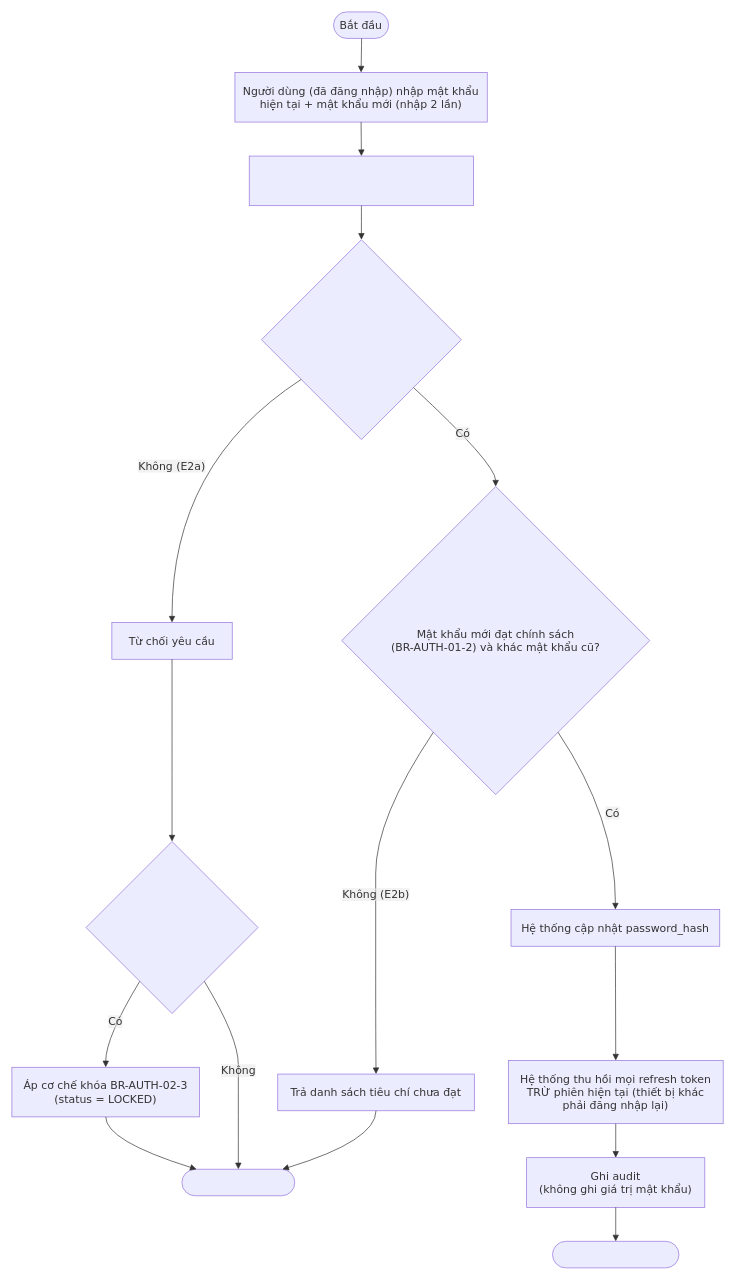
The diagram is 735 pixels wide and 1280 high, and some of its shapes have lost their labels. The shapes that lost their labels are listed below. From the top down, each one's centre as x and y in pixels, then its label:
At point (361, 180): "Hệ thống xác thực mật khẩu hiện tại với hash BCrypt".
At point (361, 339): "Mật khẩu hiện tại đúng?".
At point (171, 927): "Sai liên tiếp ≥ N lần?".
At point (238, 1182): "Kết thúc — thất bại".
At point (615, 1254): "Kết thúc — thành công".
